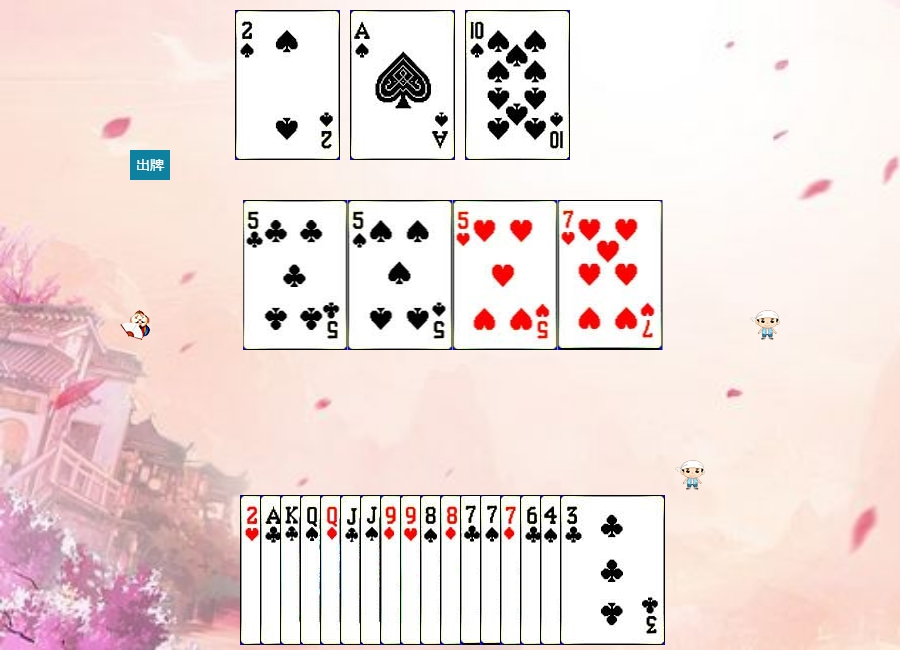10~4: (465, 10, 570, 160)
11~2: (340, 495, 445, 645)
11~4: (360, 495, 465, 645)
12~1: (320, 495, 425, 645)
12~4: (300, 495, 405, 645)
13~2: (280, 495, 385, 645)
14~2: (260, 495, 365, 645)
14~4: (350, 10, 455, 160)
15~3: (240, 495, 345, 645)
15~4: (235, 10, 340, 160)
3~2: (560, 495, 665, 645)
4~4: (540, 495, 645, 645)
5~2: (243, 200, 348, 350)
5~3: (453, 200, 558, 350)
5~4: (348, 200, 453, 350)
6~2: (520, 495, 625, 645)
7~1: (500, 495, 605, 645)
7~2: (460, 495, 565, 645)
7~3: (558, 200, 663, 350)
7~4: (480, 495, 585, 645)
8~1: (440, 495, 545, 645)
8~4: (420, 495, 525, 645)
9~1: (380, 495, 485, 645)
9~3: (400, 495, 505, 645)
